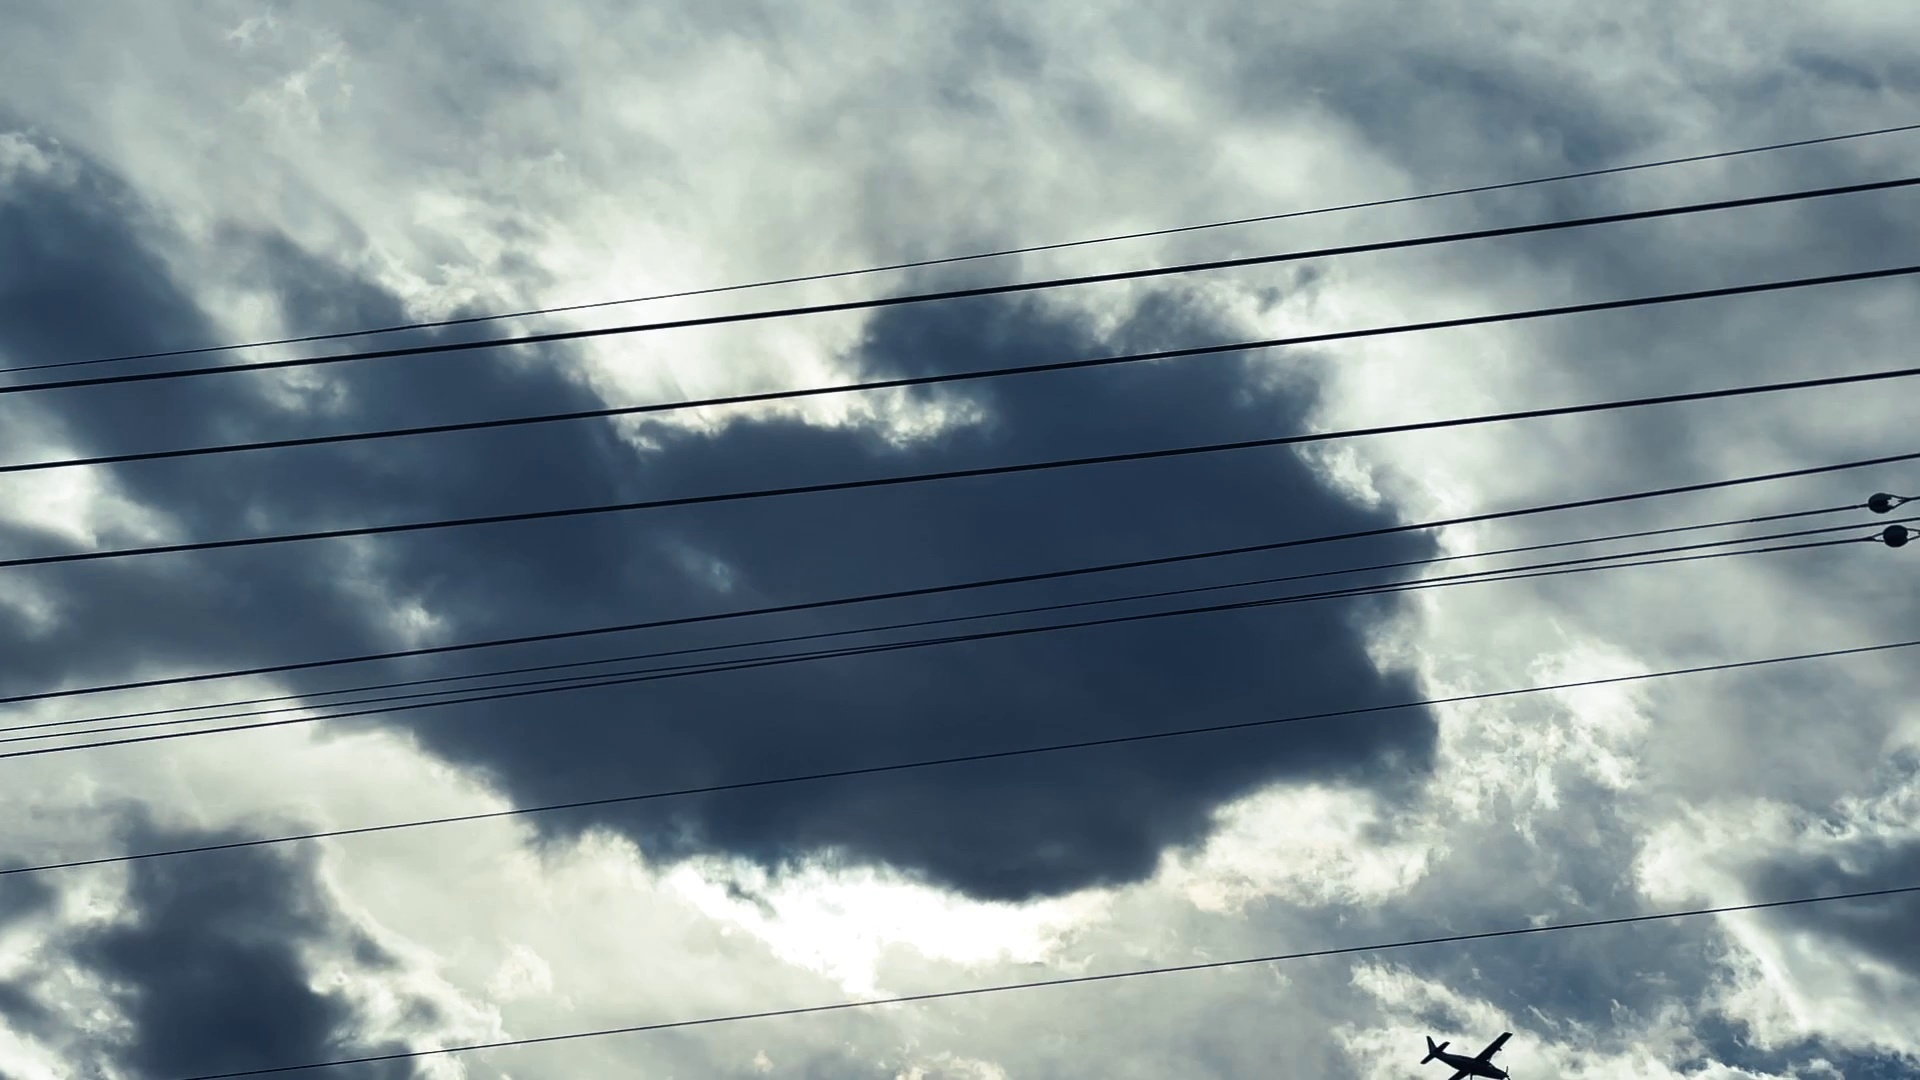plane: (1419, 1029, 1513, 1080)
